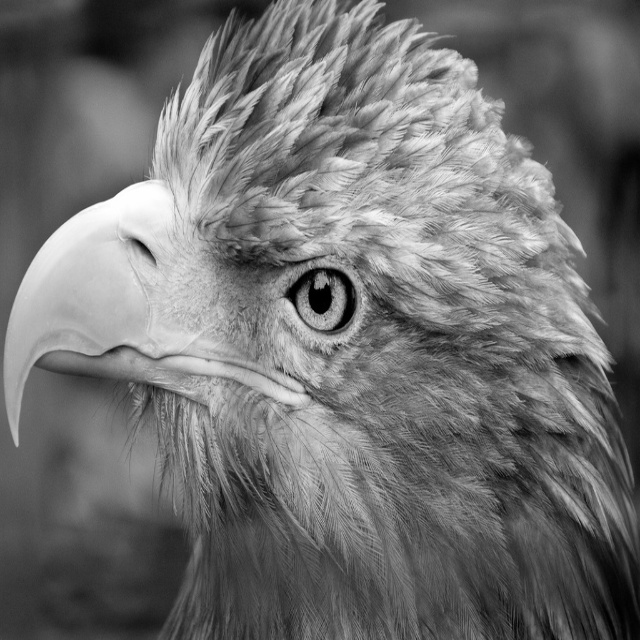Eagle: (2, 0, 639, 639)
